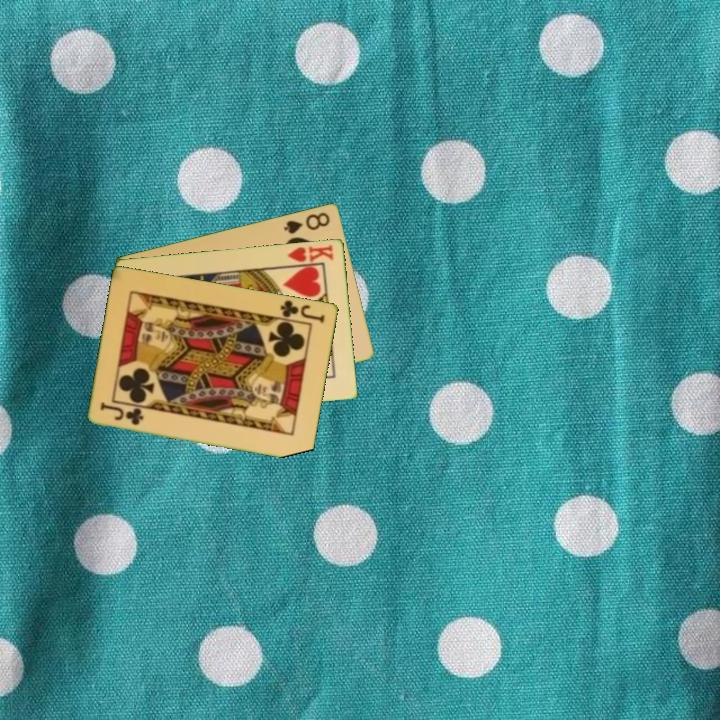8s: (280, 208, 333, 237)
Jc: (273, 296, 328, 325), (97, 399, 147, 428)
Kh: (283, 241, 336, 269)
